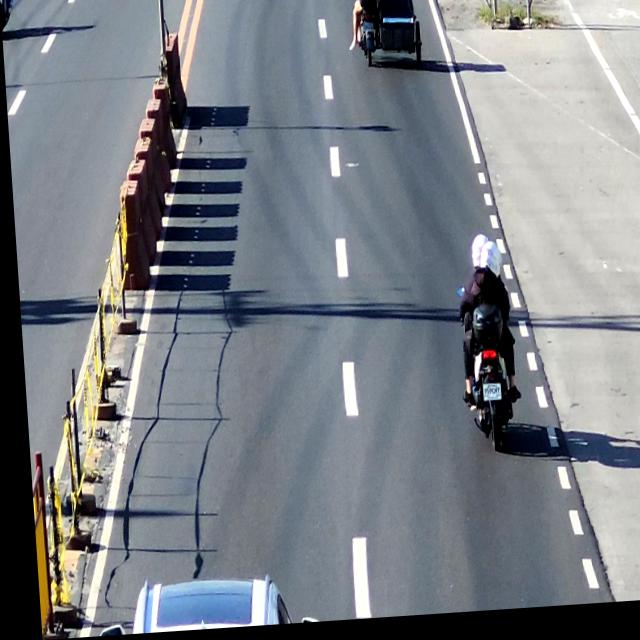Car: (97, 572, 294, 637)
License-Plate: (475, 388, 498, 412)
Motorcycle: (442, 230, 519, 465)
Tricycle: (352, 0, 421, 69)
